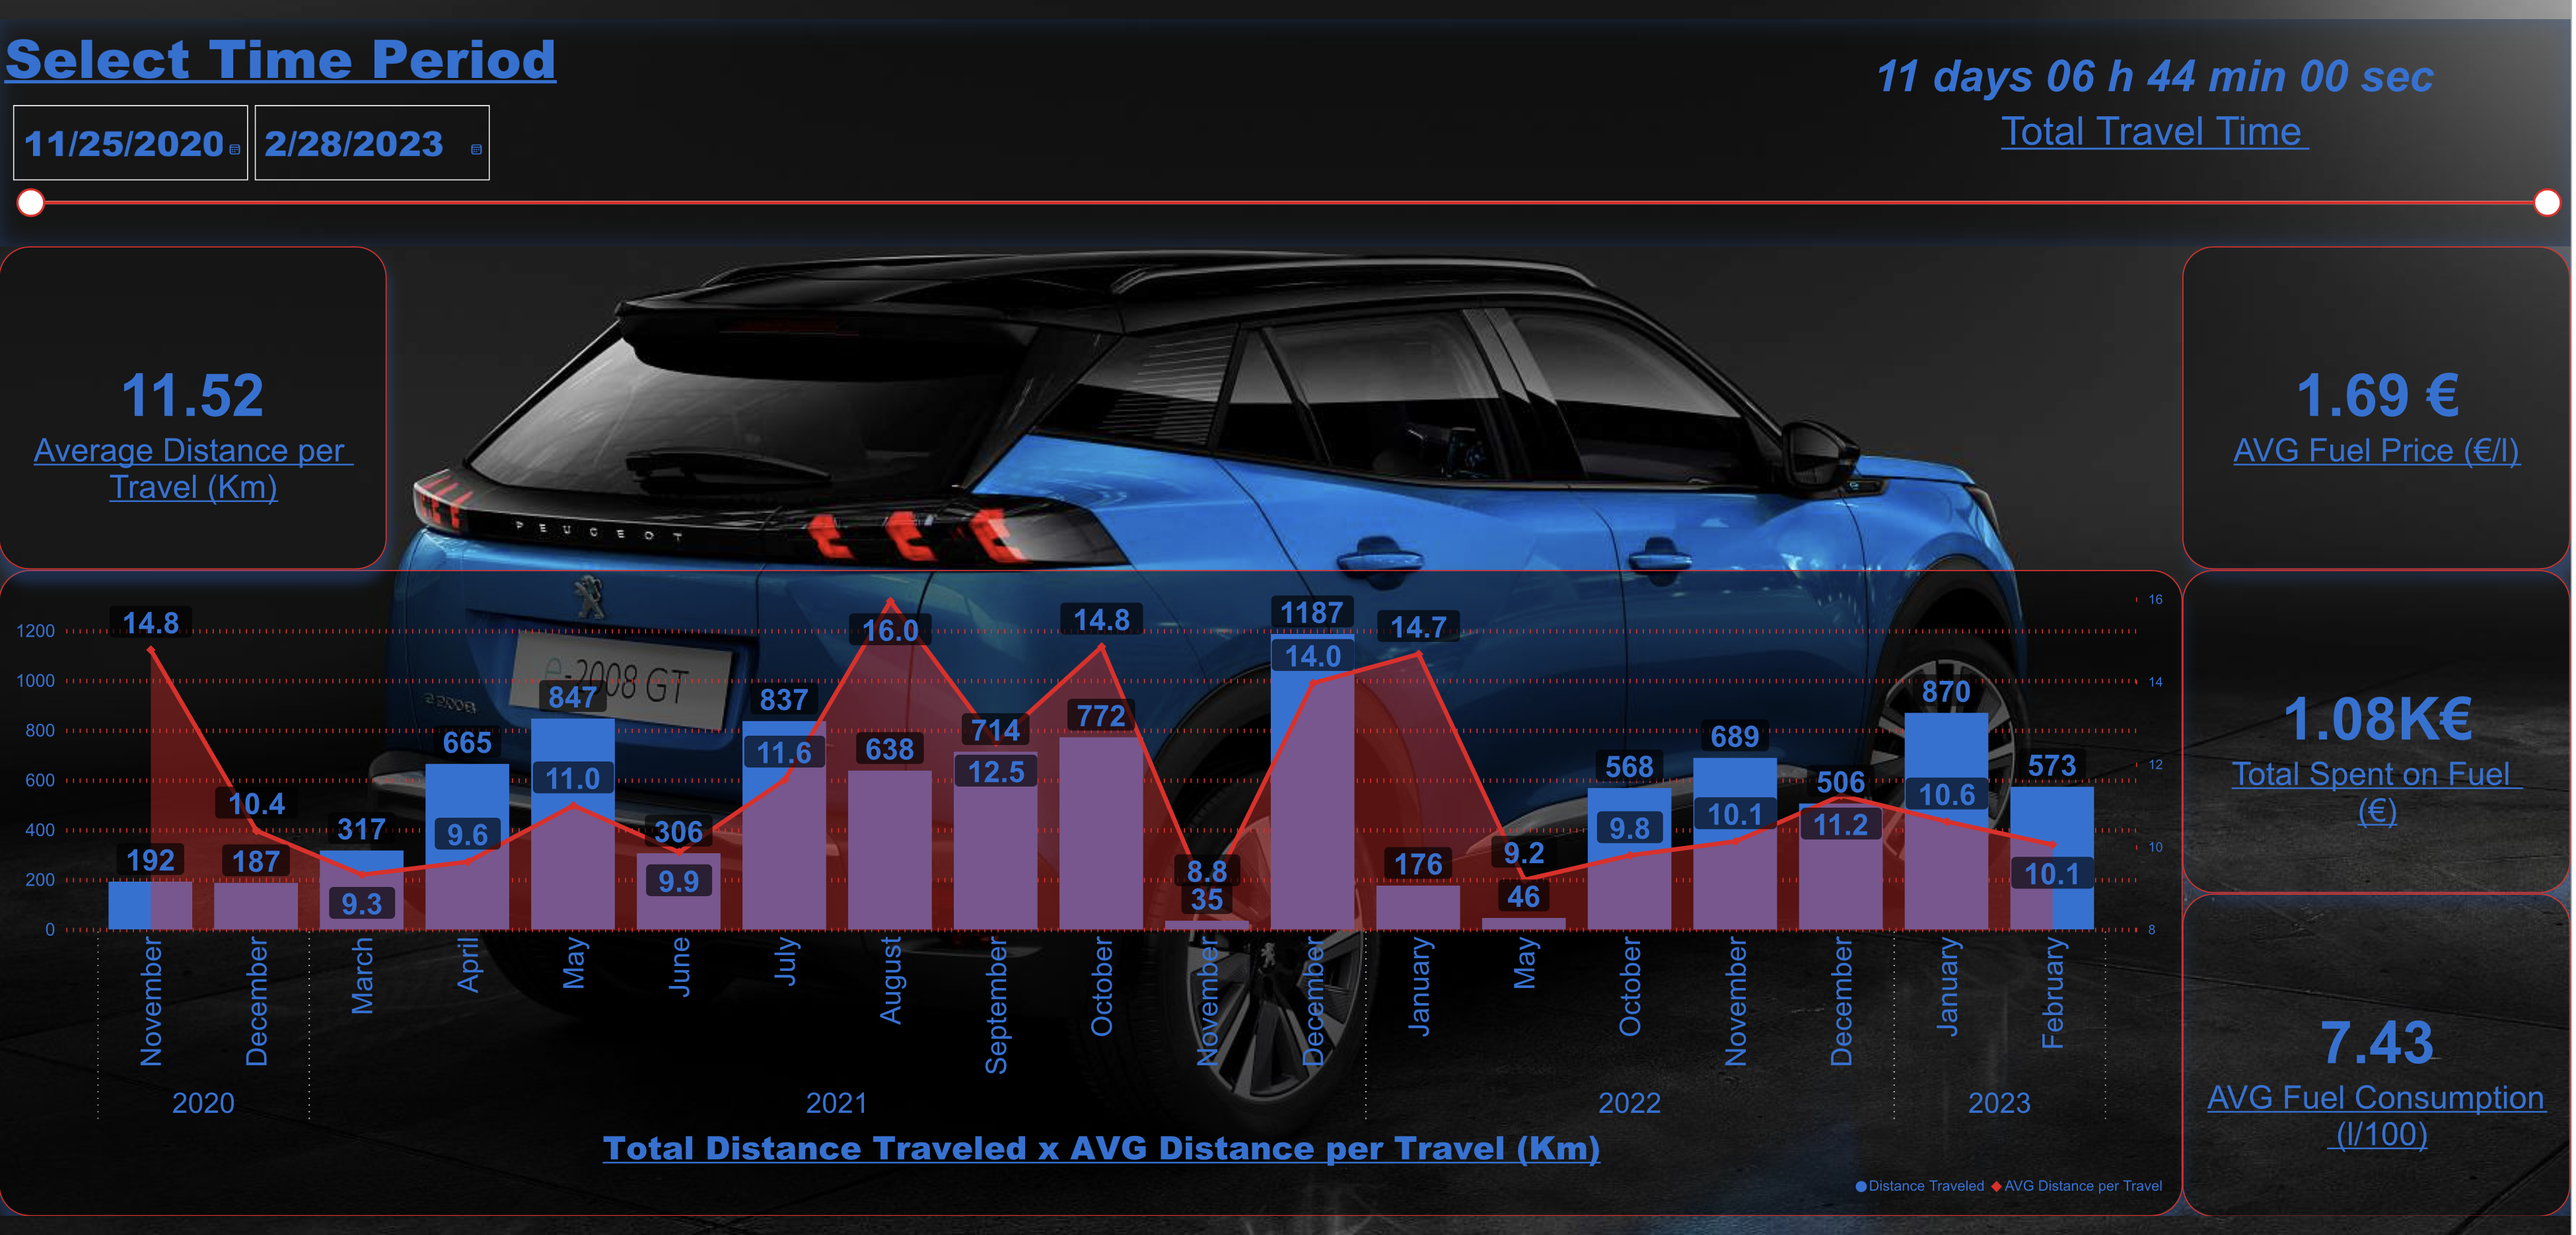

What the dashboard file says about the page in this screenshot:
{"tool":"powerbi","page":{"name":"My2008","canvas":[2320,1080],"ordinal":0},"visuals":[{"type":"slicer","title":"Select Time Period","fields":{"Values":["RAW_Files.data"]},"box":[0,0,2319.8,205.2],"z":0},{"type":"lineClusteredColumnComboChart","title":"Total Distance Traveled x AVG Distance per Travel (Km)","fields":{"Category":["RAW_Files.data.Variation.Date Hierarchy.Year","RAW_Files.data.Variation.Date Hierarchy.Month"],"Y":["Sum(RAW_Files.distância)"],"Y2":["RAW_Files.Média Distância"]},"box":[0,496.8,1969.9,583.2],"z":1000},{"type":"card","fields":{"Values":["Avg(RAW_Files.preço do combustível (EUR/l))"]},"box":[1969.9,205.2,349.9,291.6],"z":2000},{"type":"card","fields":{"Values":["RAW_Files.Total Tempo de Viagem"]},"box":[1570.3,0,749.5,138.2],"z":3000},{"type":"card","fields":{"Values":["Sum(RAW_Files.custo (EUR))"]},"box":[1969.9,496.8,349.9,291.6],"z":4000},{"type":"card","fields":{"Values":["Avg(RAW_Files.consumo médio (l/100))"]},"box":[1969.9,788.4,349.9,291.6],"z":5000},{"type":"card","fields":{"Values":["RAW_Files.Média Distância"]},"box":[0,205.2,350,291.6],"z":6000}]}

Visuals, with their boxes in screenshot pixels (x1, y1, x2, y2), scaled from the page's 2320x1080 canvas onto the 2576x1235 screenshot:
"Select Time Period" slicer: 0 0 2575 234
"Total Distance Traveled x AVG Distance per Travel (Km)" lineClusteredColumnComboChart: 0 568 2187 1234
card - Avg(RAW_Files.preço do combustível (EUR/l)): 2187 234 2575 568
card - RAW_Files.Total Tempo de Viagem: 1744 0 2575 158
card - Sum(RAW_Files.custo (EUR)): 2187 568 2575 901
card - Avg(RAW_Files.consumo médio (l/100)): 2187 901 2575 1234
card - RAW_Files.Média Distância: 0 234 388 568
